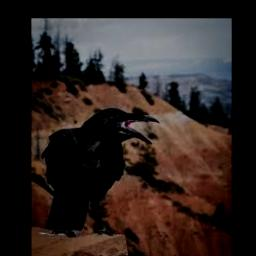Crow: (37, 107, 159, 229)
